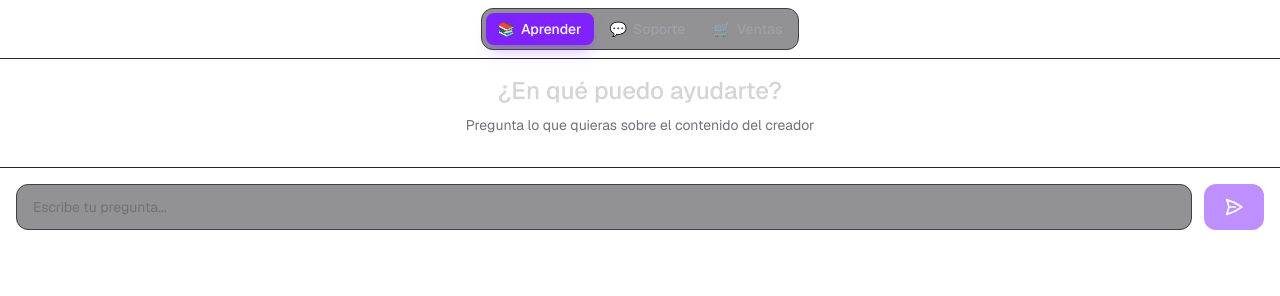
Test: ChatPanel › shows error message on fetch failure
The image size is (1280, 296).
Type "Hola" into the text box with placeholder "Escribe tu pregunta..." at (604, 207), box [16, 184, 1192, 230]
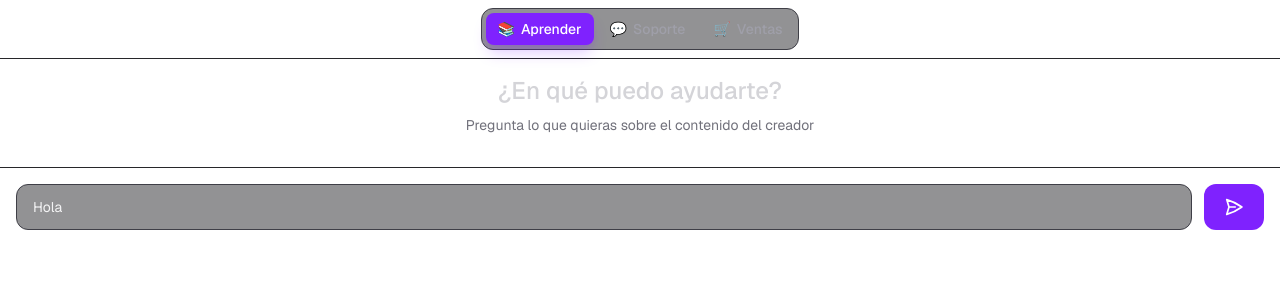
Click the 4th button at (1234, 207), box [1204, 184, 1264, 230]
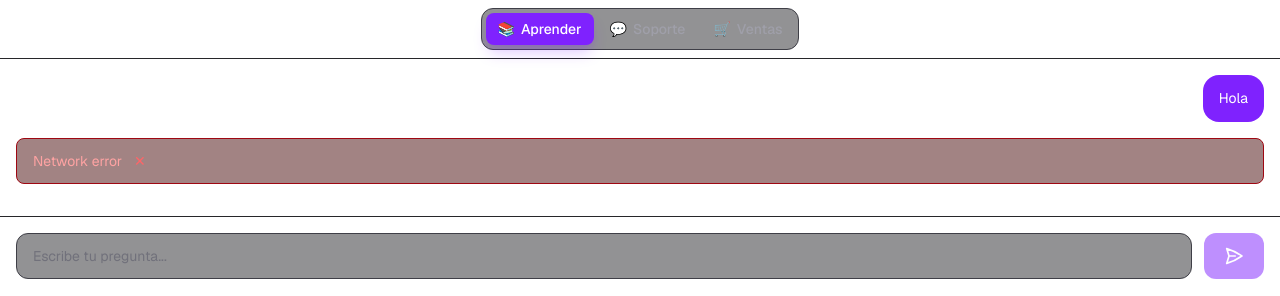
Result: the text "Network error" is shown at [33, 152, 122, 170]
